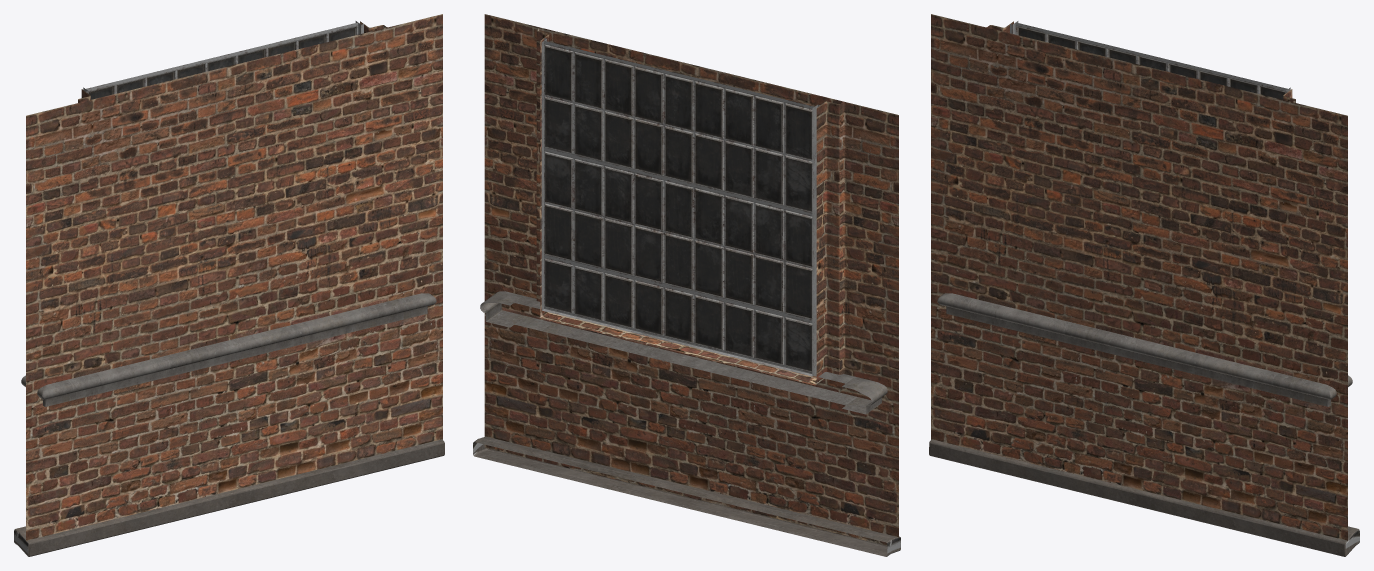
The model's file is polyhaven-factory.glb.
The picture shows the model from 3 angles, left to right: view 1: azimuth 30°, elevation 25°; view 2: azimuth 150°, elevation 25°; view 3: azimuth 330°, elevation 25°; orthographic projection.
Visible parts, largest first — view 1: wall_standard_standard_01, wall_window_tall_large_01, window_tall_large_01, cornice03_standard_standard_01; view 2: wall_window_tall_large_01, window_tall_large_01, wall_standard_standard_01, cornice03_standard_standard_01; view 3: wall_standard_standard_01, wall_window_tall_large_01, window_tall_large_01, cornice03_standard_standard_01.
Boxes of the visible parts, x1,y1,x2,y2 form: wall_standard_standard_01: [26, 14, 442, 539]; wall_window_tall_large_01: [26, 19, 442, 541]; window_tall_large_01: [21, 21, 436, 406]; cornice03_standard_standard_01: [14, 439, 444, 556]; wall_window_tall_large_01: [484, 27, 898, 545]; window_tall_large_01: [480, 38, 887, 414]; wall_standard_standard_01: [484, 14, 898, 544]; cornice03_standard_standard_01: [473, 436, 900, 556]; wall_standard_standard_01: [931, 27, 1347, 540]; wall_window_tall_large_01: [931, 14, 1347, 541]; window_tall_large_01: [937, 21, 1352, 406]; cornice03_standard_standard_01: [929, 439, 1359, 556].
Size of the model in its own units: 3 by 3.02 by 0.2678.
4 materials, 4 textured.
